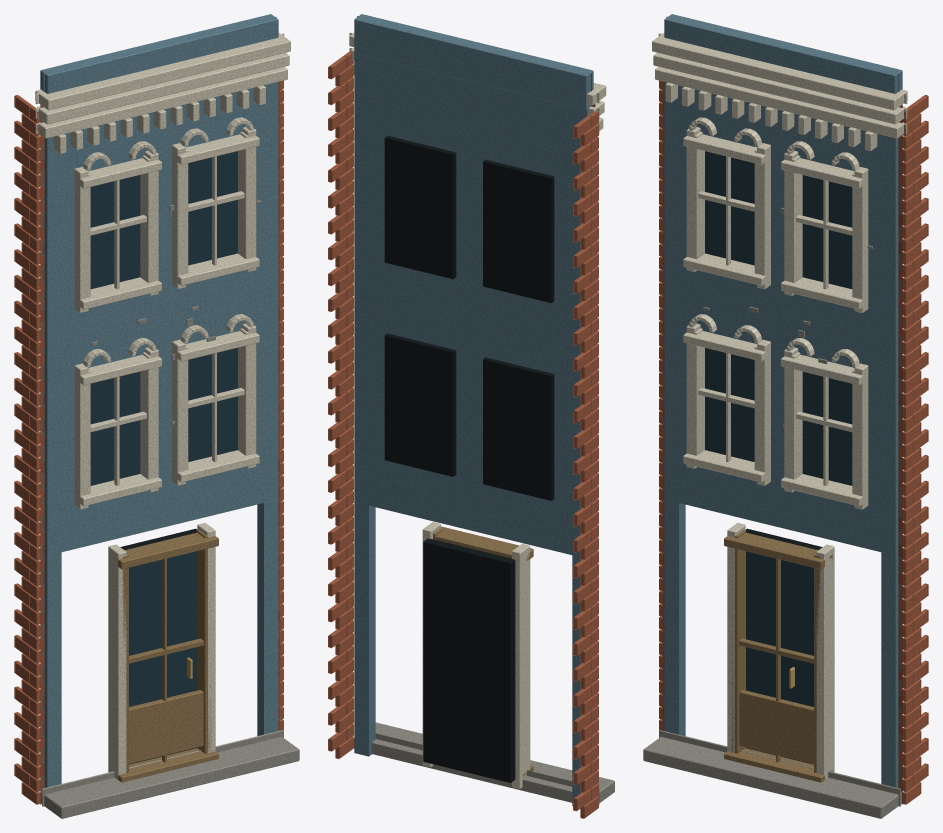
File: VICT11_lod0.glb
3 renders of one model, left to right at view 1: azimuth 30°, elevation 25°; view 2: azimuth 150°, elevation 25°; view 3: azimuth 330°, elevation 25°, orthographic.
Visible parts, largest first — view 1: VICT11_FRONT_LOD0; view 2: VICT11_FRONT_LOD0; view 3: VICT11_FRONT_LOD0.
Boxes of the visible parts, x1=… form: VICT11_FRONT_LOD0: x1=14, y1=14, x2=299, y2=818; VICT11_FRONT_LOD0: x1=328, y1=14, x2=614, y2=818; VICT11_FRONT_LOD0: x1=643, y1=14, x2=928, y2=818.
Size of the model in its own units: 3.44 by 9.66 by 1.02.
12 materials, 9 textured.
